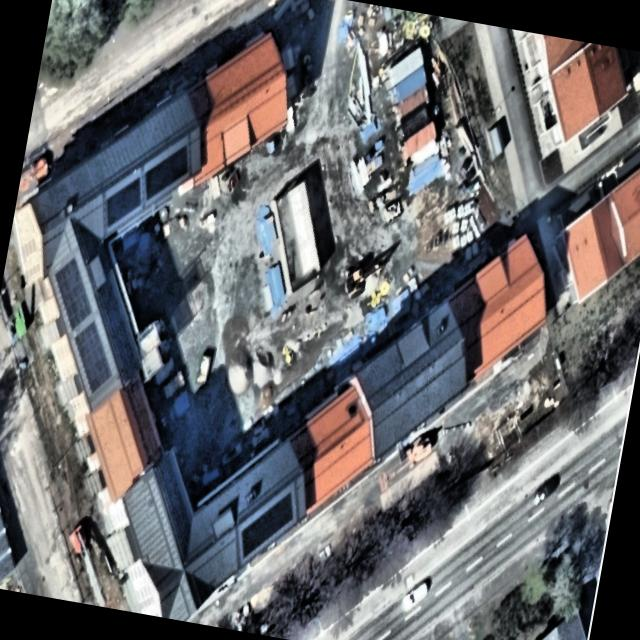roof_pv: (233, 486, 298, 562), (44, 256, 100, 332), (64, 316, 119, 392), (140, 140, 196, 202), (96, 173, 147, 235)
